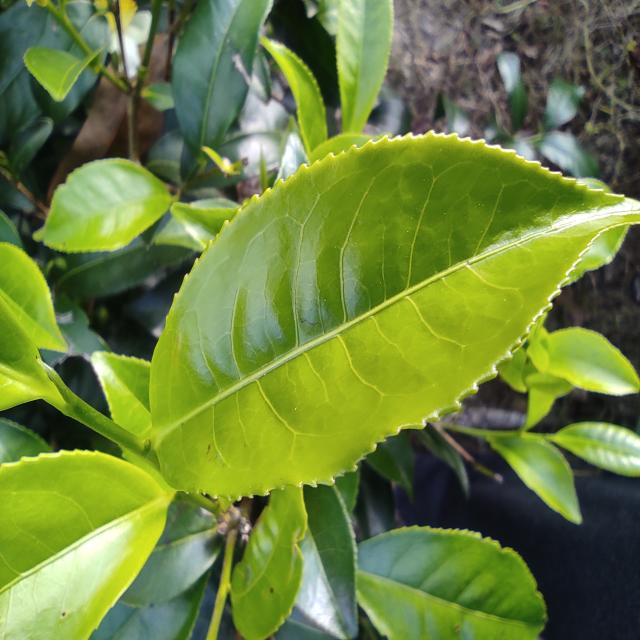Category B(2-4 days): (124, 98, 640, 584)
